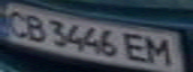3: (42, 17, 69, 48)
4: (81, 25, 103, 55), (63, 21, 84, 52)
6: (100, 27, 121, 60)
B: (18, 11, 51, 43)
C: (0, 7, 33, 38)
E: (121, 30, 151, 64)
M: (142, 34, 181, 69)
